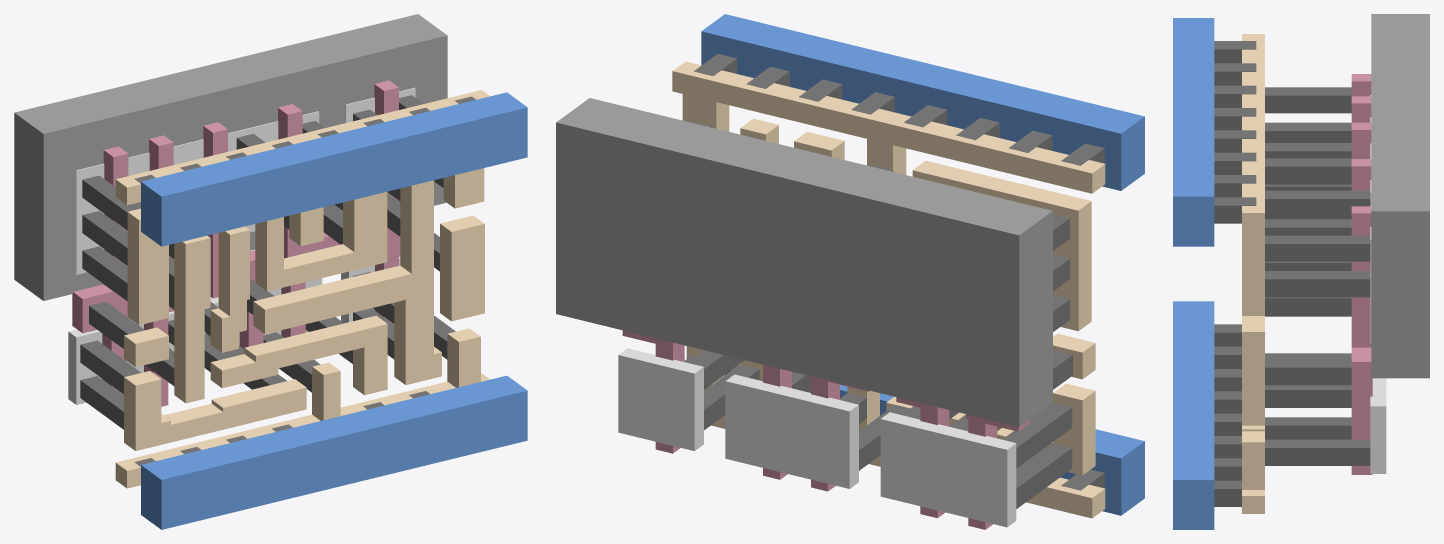
File: sky130_fd_sc_hd__mux2i_1.gds.gltf
The picture shows the model from 3 angles, left to right: view 1: azimuth 30°, elevation 25°; view 2: azimuth 150°, elevation 25°; view 3: azimuth 270°, elevation 25°; orthographic projection. The views are drawn at different scales.
Parts seen in each view (by area): view 1: sky130_fd_sc_hd__mux2i_1_li1, sky130_fd_sc_hd__mux2i_1_met1, sky130_fd_sc_hd__mux2i_1_nwell, sky130_fd_sc_hd__mux2i_1_licon, sky130_fd_sc_hd__mux2i_1_poly, sky130_fd_sc_hd__mux2i_1_diff, sky130_fd_sc_hd__mux2i_1_mcon; view 2: sky130_fd_sc_hd__mux2i_1_nwell, sky130_fd_sc_hd__mux2i_1_li1, sky130_fd_sc_hd__mux2i_1_diff, sky130_fd_sc_hd__mux2i_1_met1, sky130_fd_sc_hd__mux2i_1_licon, sky130_fd_sc_hd__mux2i_1_mcon, sky130_fd_sc_hd__mux2i_1_poly; view 3: sky130_fd_sc_hd__mux2i_1_licon, sky130_fd_sc_hd__mux2i_1_nwell, sky130_fd_sc_hd__mux2i_1_met1, sky130_fd_sc_hd__mux2i_1_mcon, sky130_fd_sc_hd__mux2i_1_li1, sky130_fd_sc_hd__mux2i_1_poly, sky130_fd_sc_hd__mux2i_1_diff.
Part boxes in pixels (box(x1,y1,x2,y2)): sky130_fd_sc_hd__mux2i_1_li1: box(115, 90, 489, 488); sky130_fd_sc_hd__mux2i_1_met1: box(141, 92, 527, 529); sky130_fd_sc_hd__mux2i_1_nwell: box(14, 14, 447, 300); sky130_fd_sc_hd__mux2i_1_licon: box(80, 95, 455, 429); sky130_fd_sc_hd__mux2i_1_poly: box(72, 80, 400, 406); sky130_fd_sc_hd__mux2i_1_diff: box(68, 87, 415, 404); sky130_fd_sc_hd__mux2i_1_mcon: box(134, 96, 475, 466); sky130_fd_sc_hd__mux2i_1_nwell: box(556, 98, 1052, 426); sky130_fd_sc_hd__mux2i_1_li1: box(672, 61, 1105, 518); sky130_fd_sc_hd__mux2i_1_diff: box(618, 348, 1016, 527); sky130_fd_sc_hd__mux2i_1_met1: box(701, 14, 1144, 515); sky130_fd_sc_hd__mux2i_1_licon: box(684, 121, 1072, 508); sky130_fd_sc_hd__mux2i_1_mcon: box(694, 54, 1104, 490); sky130_fd_sc_hd__mux2i_1_poly: box(622, 330, 1030, 529); sky130_fd_sc_hd__mux2i_1_licon: box(1265, 87, 1370, 465); sky130_fd_sc_hd__mux2i_1_nwell: box(1371, 14, 1429, 378); sky130_fd_sc_hd__mux2i_1_met1: box(1173, 18, 1214, 529); sky130_fd_sc_hd__mux2i_1_mcon: box(1214, 41, 1256, 506); sky130_fd_sc_hd__mux2i_1_li1: box(1242, 34, 1264, 513); sky130_fd_sc_hd__mux2i_1_poly: box(1351, 74, 1372, 474); sky130_fd_sc_hd__mux2i_1_diff: box(1370, 95, 1386, 473).
Bounding box in the file's own units: 4.06 × 3.2 × 2.24.
